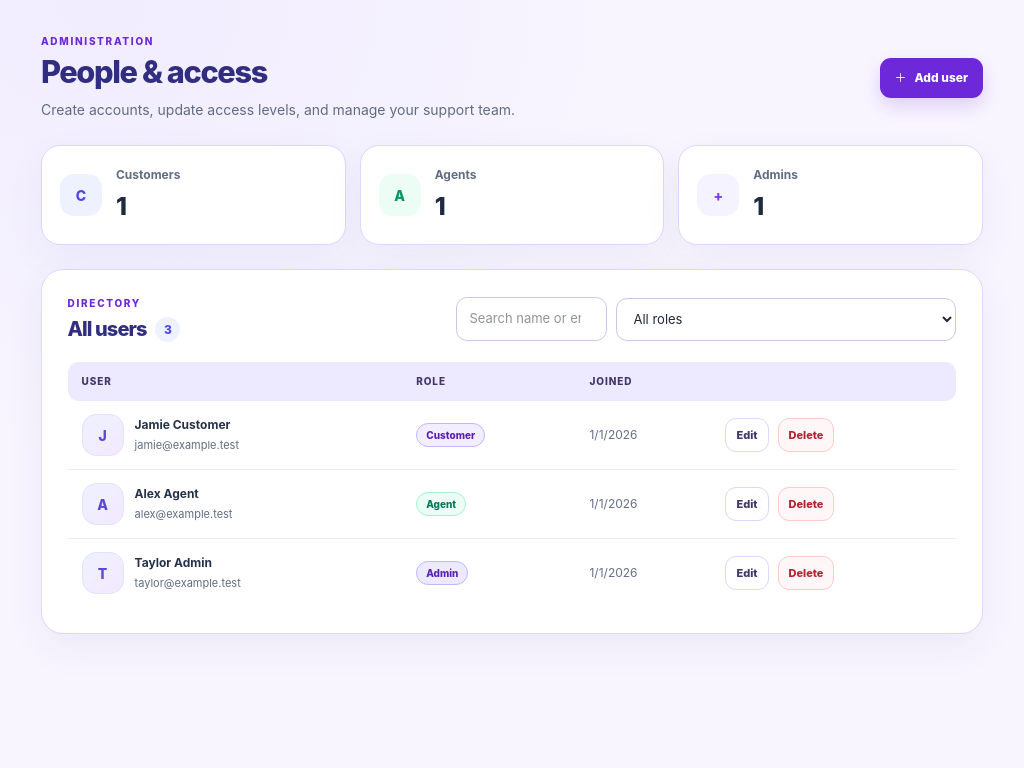
it: Admin user management › cancels deletion and restores focus to the selected user
The image size is (1024, 768).
Click the button with aria-label "Delete Jamie Customer".
click(806, 435)  # box [778,418,834,452]
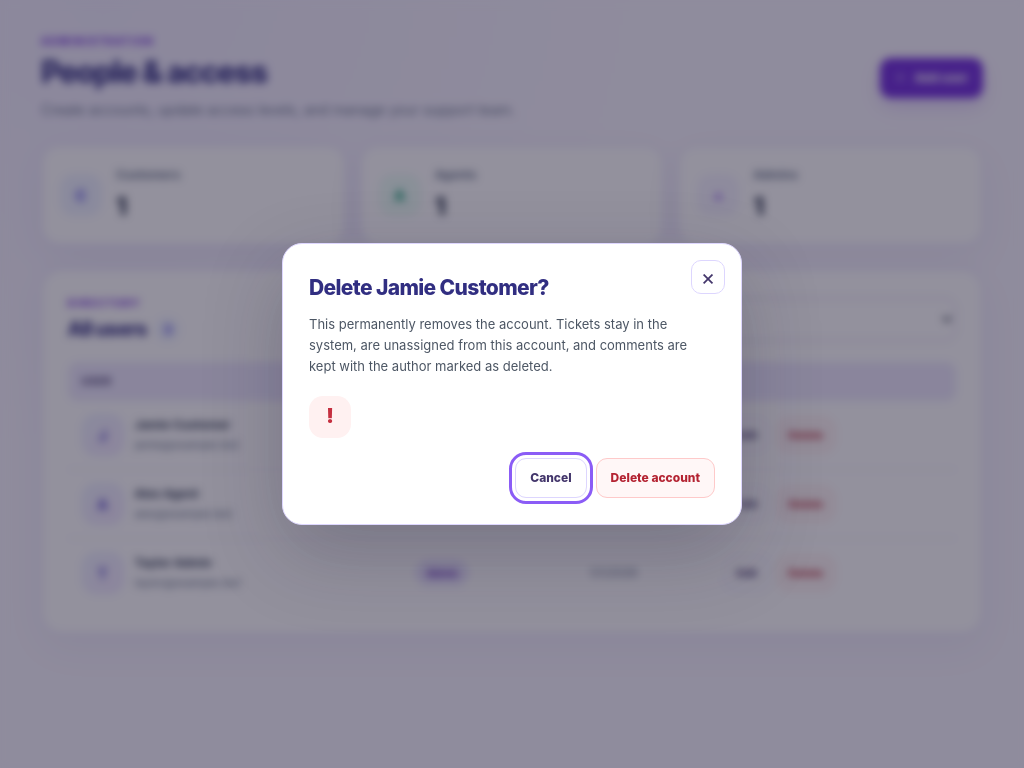
Click the button "Cancel".
click(551, 478)  # box [515,458,587,498]
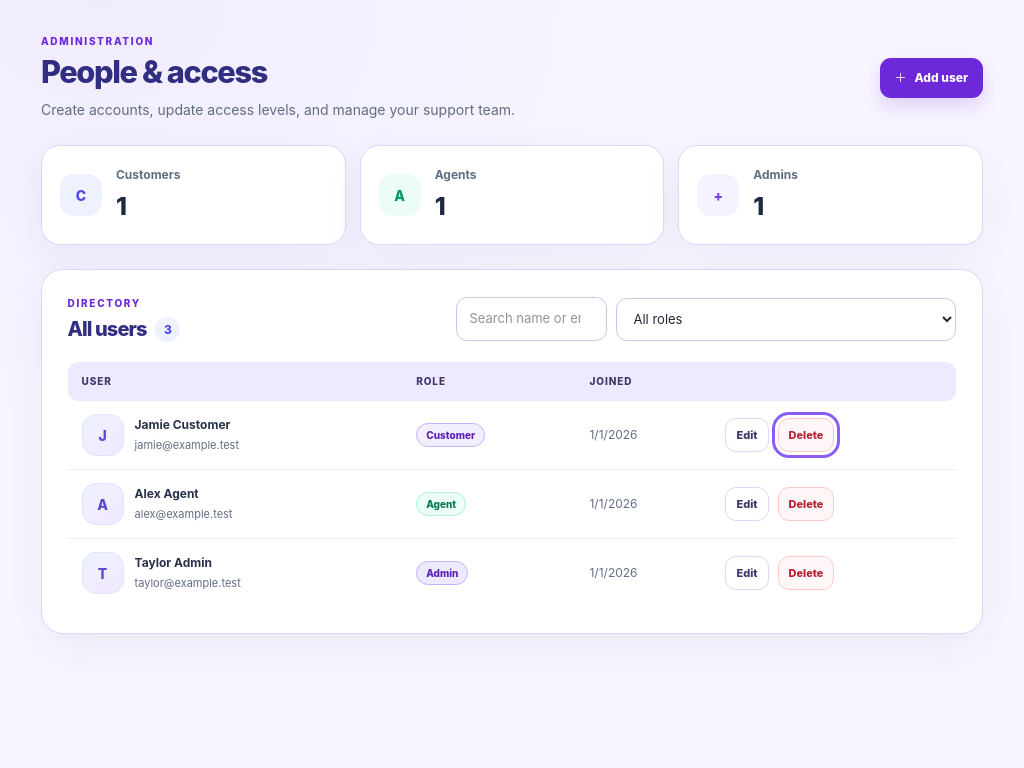
Expected: the dialog is gone
